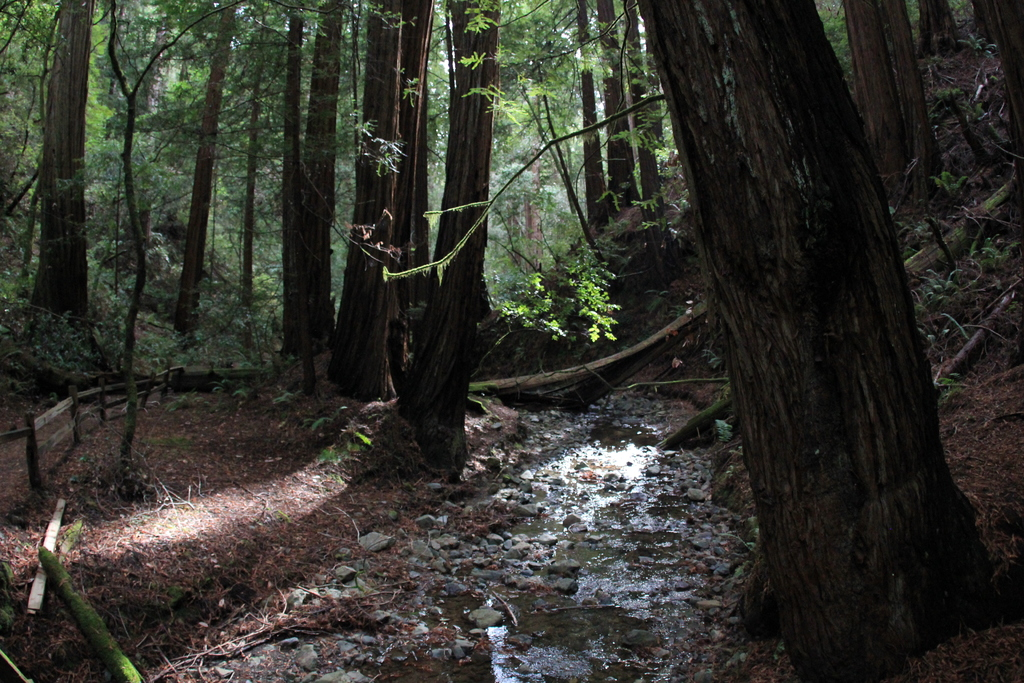Tree: (383, 0, 1023, 682), (0, 0, 679, 483), (807, 0, 1023, 217)
